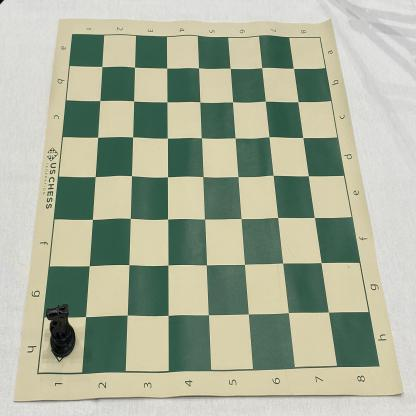black-knight: (46, 304, 76, 358)
